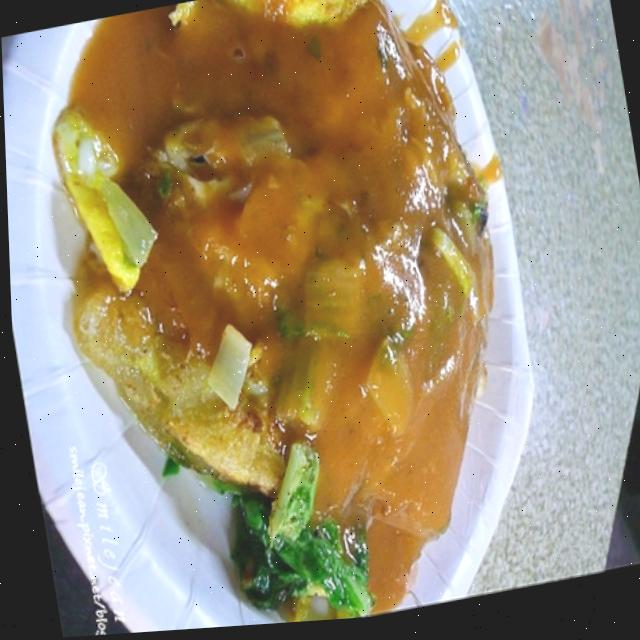熟制海鲜: (0, 0, 626, 640)
